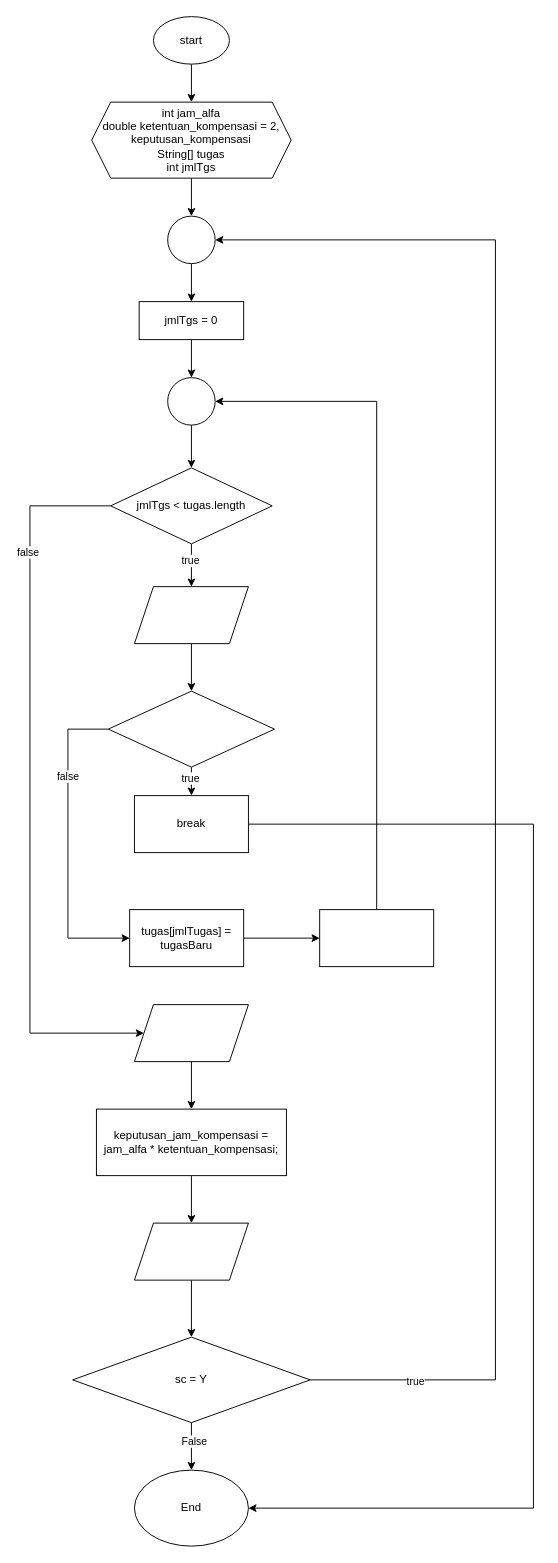
This 558x1563 diagram has some shape labels left out. The shapes that lost their labels are listed below. From the top down, each one's centre as x and y in pixels, then its label:
At pixel 190 615: "tugasBaru".
At pixel 191 728: "tugasBaru = selesai".
At pixel 376 938: "jmlTgs++".
At pixel 190 1033: "jam-alfa".
At pixel 190 1251: "keputusan jam kompensasi".
